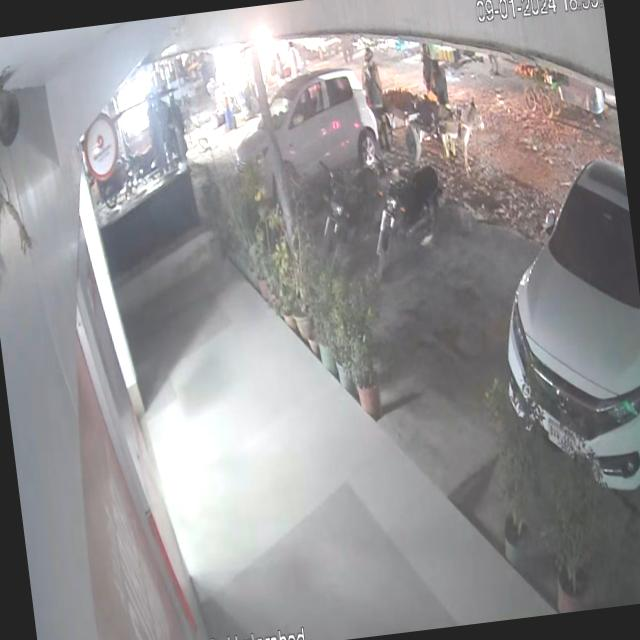Car: (479, 135, 640, 523), (225, 64, 402, 212)
Motorcycle: (366, 142, 458, 288), (314, 160, 388, 276)
